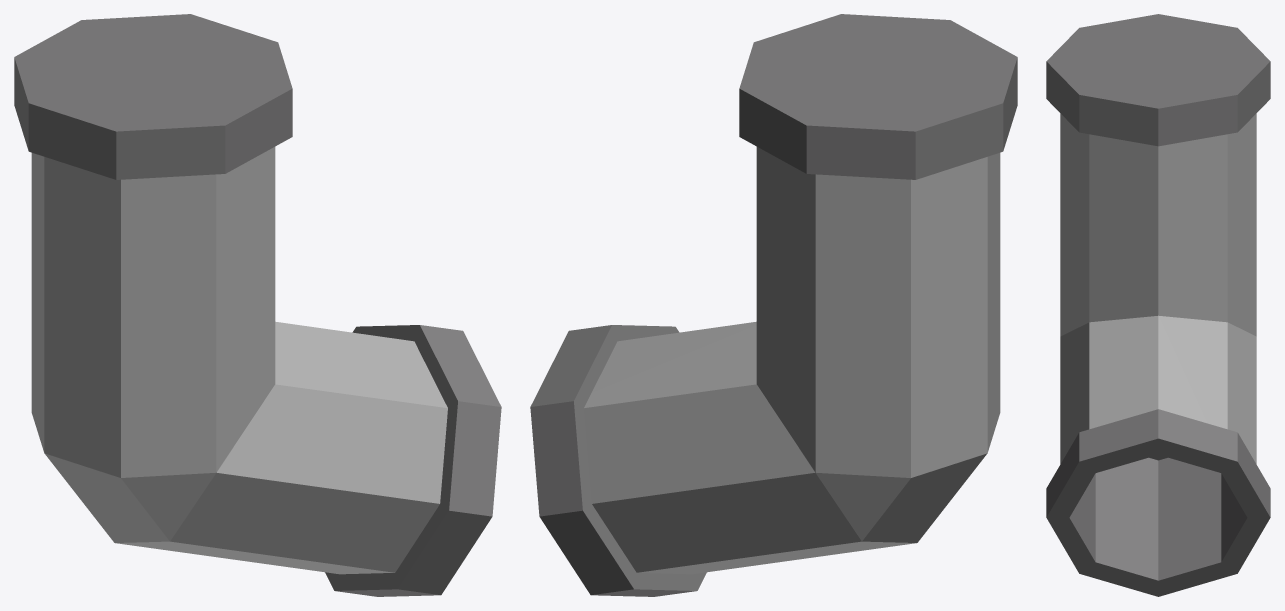
File: SM_drainPipe_ending.glb
The picture shows the model from 3 angles, left to right: view 1: azimuth 30°, elevation 25°; view 2: azimuth 150°, elevation 25°; view 3: azimuth 270°, elevation 25°; orthographic projection. The views are drawn at different scales.
Parts seen in each view (by area): view 1: SM_drainPipe_ending; view 2: SM_drainPipe_ending; view 3: SM_drainPipe_ending.
Part boxes in pixels (<box>): SM_drainPipe_ending: <box>14,14,501,596</box>; SM_drainPipe_ending: <box>530,14,1017,596</box>; SM_drainPipe_ending: <box>1046,14,1270,596</box>.
Size of the model in its own units: 0.4694 by 0.5977 by 0.2695.
1 material, 1 textured.
